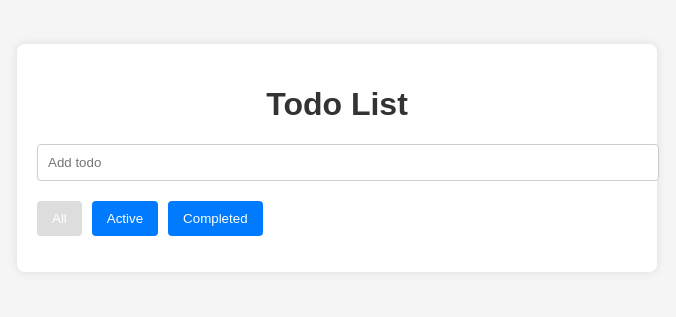
TodoList › adds a new todo
In the field with placeholder "Add todo": (348, 162) 37,144 -> 659,181, type "New Todo"
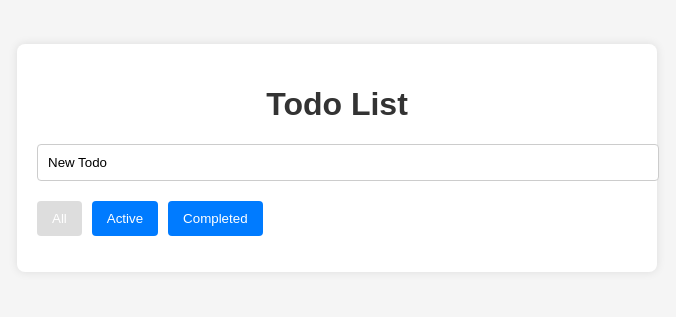
Press Enter in the field with placeholder "Add todo", box 37,144 -> 659,181
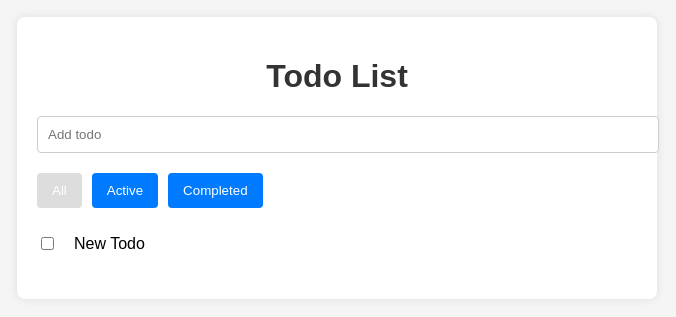
Now the text "New Todo" is shown, box 74,235 -> 145,252
